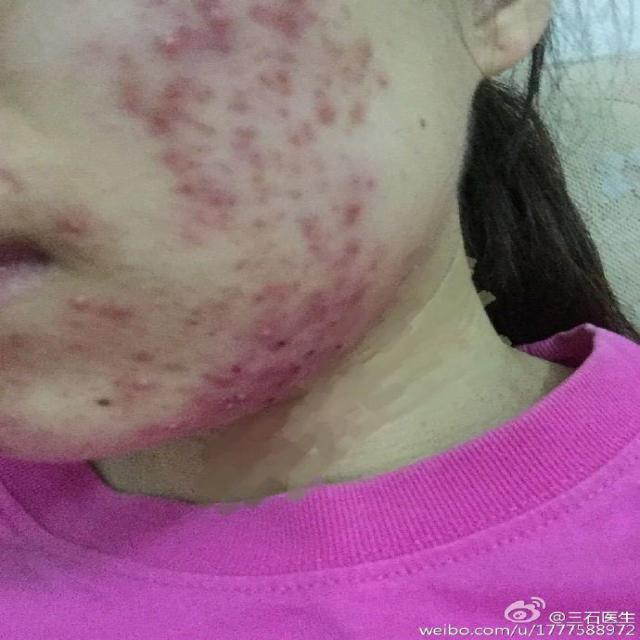Acne: (119, 73, 246, 212), (244, 146, 326, 302), (259, 44, 382, 128), (234, 318, 320, 382), (323, 202, 382, 288), (155, 6, 235, 56), (256, 1, 316, 46), (184, 286, 247, 321), (131, 372, 186, 409), (210, 394, 285, 421), (76, 294, 137, 326), (78, 377, 116, 422), (331, 302, 358, 346), (54, 210, 96, 235), (155, 424, 210, 442), (125, 341, 162, 361)
